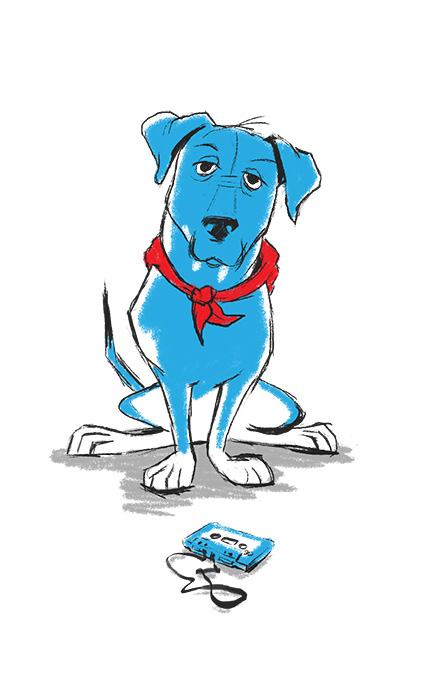dog: (73, 111, 342, 500)
